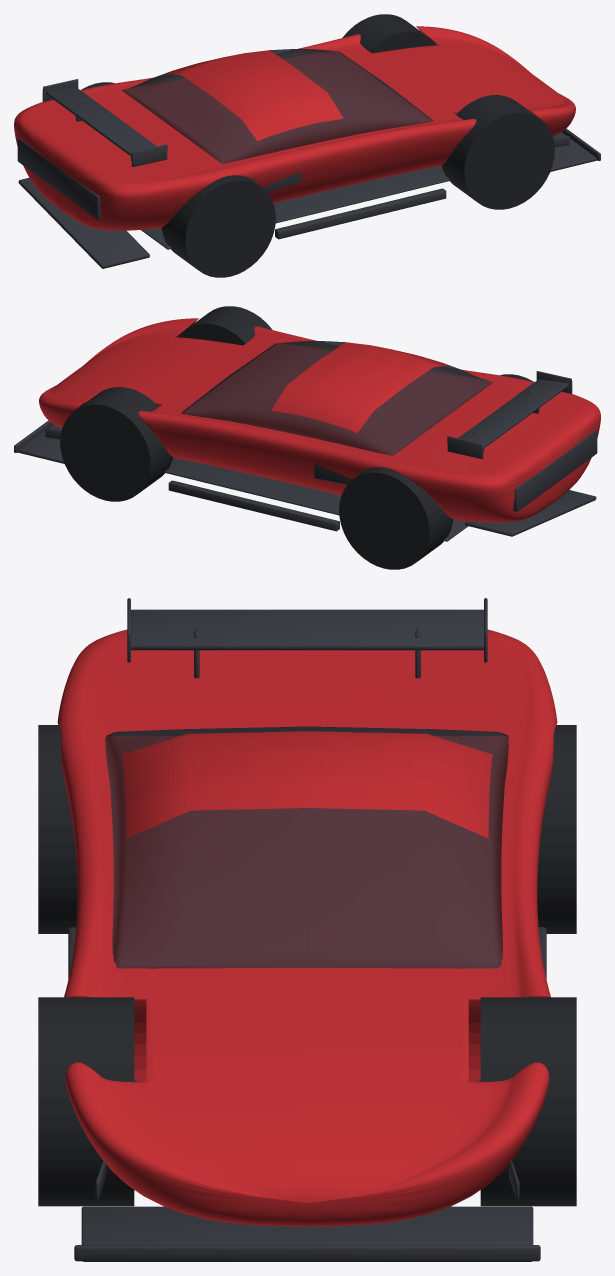
The model's file is car-body.glb.
3 views of the same model, one above another, from view 1: azimuth 30°, elevation 25°; view 2: azimuth 150°, elevation 25°; view 3: azimuth 270°, elevation 25° (orthographic). The views are drawn at different scales.
Parts seen in each view (by area): view 1: body, greenhouse, well, well.001, floor, diffuser, wing-plane, well.002, tail-panel, skirt, splitter, wing-plate (+1 smaller); view 2: body, greenhouse, well.002, well.003, floor, wing-plane, well, tail-panel, skirt.001, diffuser, splitter, wing-plate.001 (+1 smaller); view 3: body, greenhouse, well, well.002, wing-plane, splitter, splitter-lip, well.001, well.003.
Part boxes in pixels (x1,y1,x2,y2): body: (14,26,575,230); greenhouse: (122,49,433,163); well: (441,95,554,209); well.001: (161,175,275,277); floor: (141,165,450,249); diffuser: (18,178,149,268); wing-plane: (45,87,156,156); well.002: (342,14,436,53); tail-panel: (17,137,101,219); skirt: (275,188,446,239); splitter: (550,132,597,171); wing-plate: (131,144,167,166); body: (39,318,600,522); greenhouse: (181,341,493,455); well.002: (60,387,173,501); well.003: (339,467,453,569); floor: (164,457,468,541); wing-plane: (458,379,569,448); well: (178,306,272,345); tail-panel: (513,429,597,511); skirt.001: (168,480,339,531); diffuser: (465,490,596,536); splitter: (17,424,64,463); wing-plate.001: (447,436,483,458); body: (57,629,557,1226); greenhouse: (105,726,508,968); well: (38,997,134,1206); well.002: (480,997,576,1206); wing-plane: (131,609,483,650); splitter: (81,1206,533,1261); splitter-lip: (74,1245,540,1261); well.001: (38,725,77,933); well.003: (537,725,576,933).
Size of the model in its own units: 4.7 by 1.17 by 2.24.
